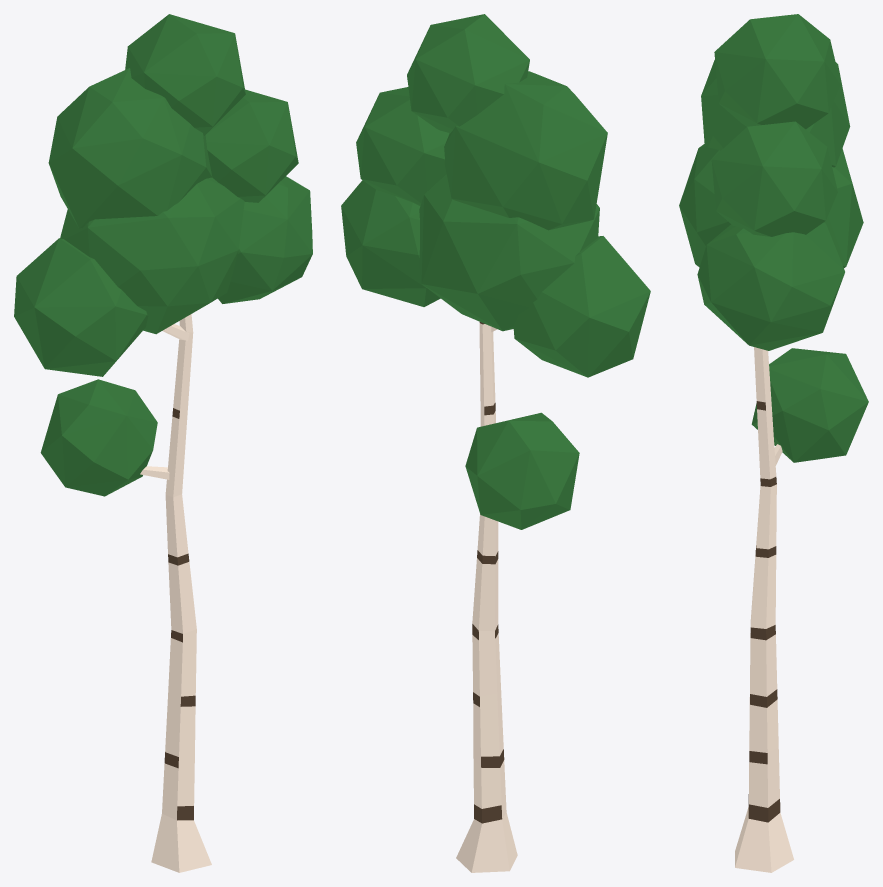
Rendered from tree-birch-tall.glb.
3 renders of one model, left to right at view 1: azimuth 30°, elevation 25°; view 2: azimuth 150°, elevation 25°; view 3: azimuth 270°, elevation 25°, orthographic. The views are drawn at different scales.
Parts seen in each view (by area): view 1: tree-birch-tall; view 2: tree-birch-tall; view 3: tree-birch-tall.
Boxes of the visible parts, x1=… form: tree-birch-tall: x1=14, y1=14, x2=312, y2=872; tree-birch-tall: x1=341, y1=14, x2=650, y2=872; tree-birch-tall: x1=679, y1=14, x2=868, y2=872.
Bounding box in the file's own units: 2.89 × 7.96 × 1.62.
1 material, 1 textured.
